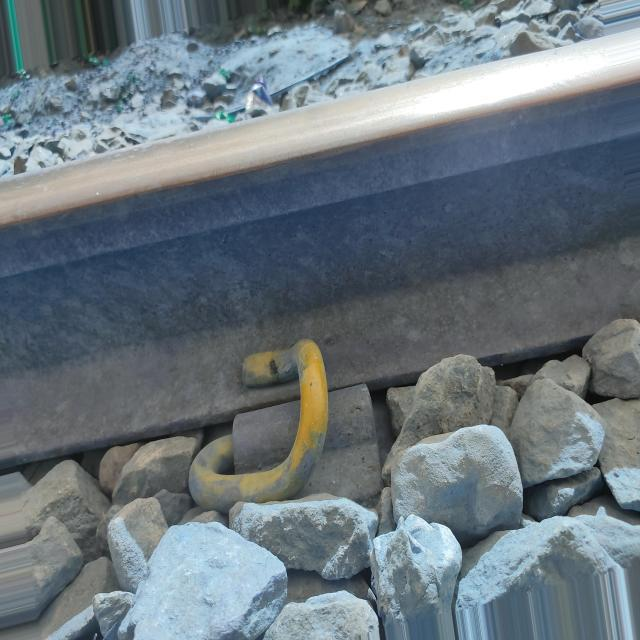Good Fasteners: (169, 339, 397, 517)
